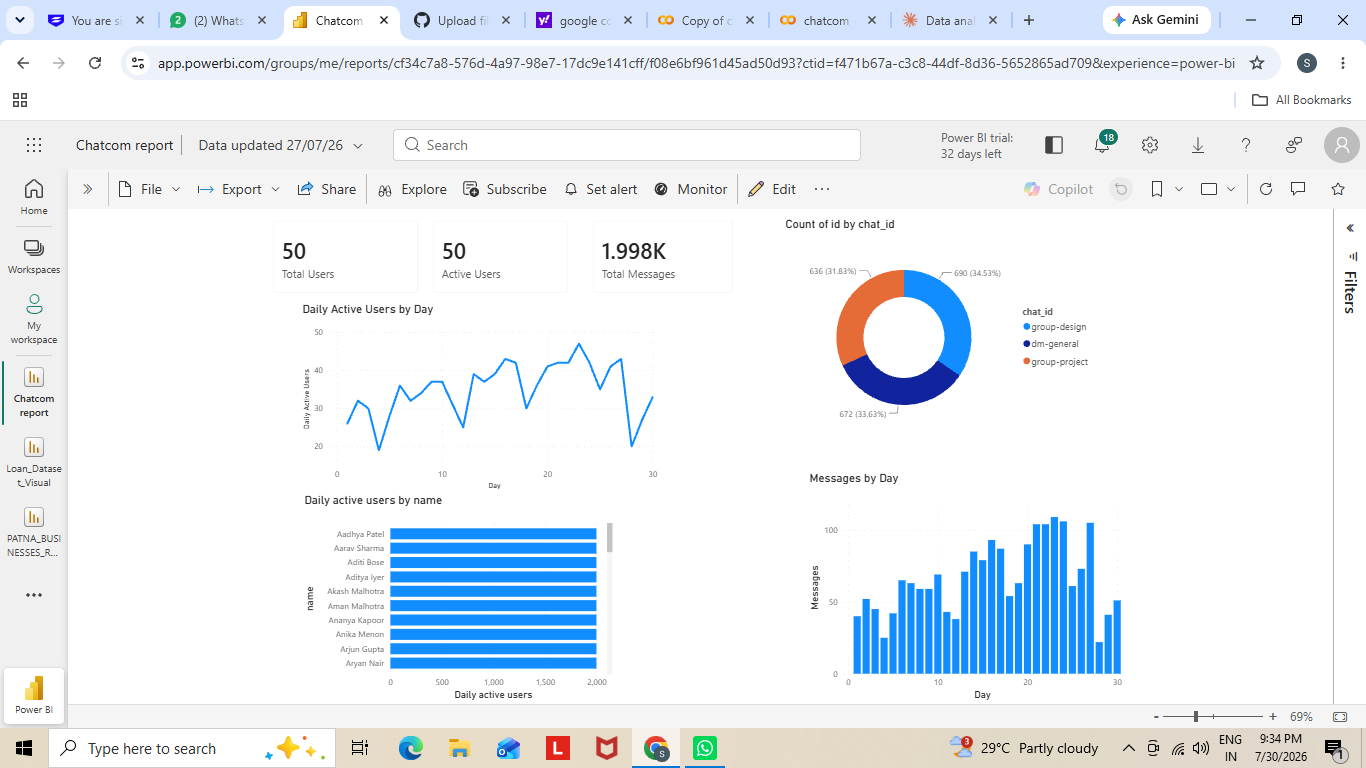

What the dashboard file says about the page in this screenshot:
{"tool":"powerbi","page":{"name":"Dashboard","canvas":[1280,720],"ordinal":0},"visuals":[{"type":"cardVisual","fields":{"Data":["CountNonNull(messages_export (1).id)"]},"box":[465,0,238.6,139.3],"z":0},{"type":"cardVisual","fields":{"Data":["CountNonNull(users_export (1).id)"]},"box":[0,0,245.6,139.3],"z":1},{"type":"cardVisual","fields":{"Data":["Count(messages_export (1).sender_id)"]},"box":[233.4,0,231.9,139.5],"z":2},{"type":"lineChart","fields":{"Category":["messages_export (1).created_at.Variation.Date Hierarchy.Day"],"Y":["Count(messages_export (1).sender_id)"]},"box":[55.7,135.8,529.4,276.9],"z":3},{"type":"clusteredColumnChart","fields":{"Category":["messages_export (1).created_at.Variation.Date Hierarchy.Day"],"Y":["CountNonNull(messages_export (1).id)"]},"box":[792.4,381.4,465,337.9],"z":4},{"type":"clusteredBarChart","fields":{"Category":["users_export (1).name"],"Y":["CountNonNull(messages_export (1).id)"]},"box":[57.5,412.7,458,306.5],"z":5},{"type":"donutChart","fields":{"Category":["messages_export (1).chat_id"],"Y":["CountNonNull(messages_export (1).id)"]},"box":[757.6,12.2,459.8,320.4],"z":6}]}

Visuals, with their boxes on the page's 1280x720 design canvas (x1, y1, x2, y2). These are canvas units, not pixel positions in the 1366x768 screenshot, which may show the page scaled, cropped or inside an application window:
cardVisual - CountNonNull(messages_export (1).id): (465,0,704,139)
cardVisual - CountNonNull(users_export (1).id): (0,0,246,139)
cardVisual - Count(messages_export (1).sender_id): (233,0,465,140)
lineChart - messages_export (1).created_at.Variation.Date Hierarchy.Day x Count(messages_export (1).sender_id): (56,136,585,413)
clusteredColumnChart - messages_export (1).created_at.Variation.Date Hierarchy.Day x CountNonNull(messages_export (1).id): (792,381,1257,719)
clusteredBarChart - users_export (1).name x CountNonNull(messages_export (1).id): (58,413,516,719)
donutChart - messages_export (1).chat_id x CountNonNull(messages_export (1).id): (758,12,1217,333)
